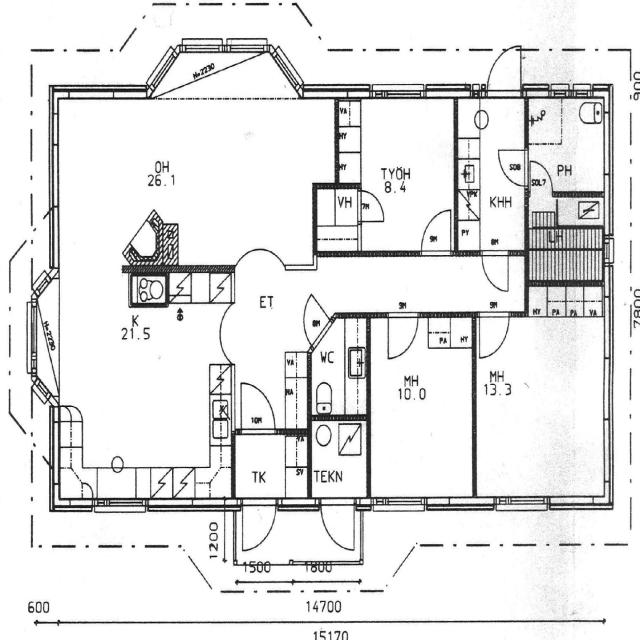door: (292, 295, 332, 349), (487, 44, 521, 98), (243, 498, 276, 552), (321, 498, 354, 552), (242, 383, 274, 434), (421, 210, 451, 257), (479, 312, 509, 358), (388, 312, 418, 358), (498, 150, 529, 185), (482, 251, 508, 292), (260, 231, 285, 270), (237, 231, 260, 270), (530, 160, 553, 197), (357, 191, 384, 221), (210, 304, 236, 334), (210, 334, 236, 363)
